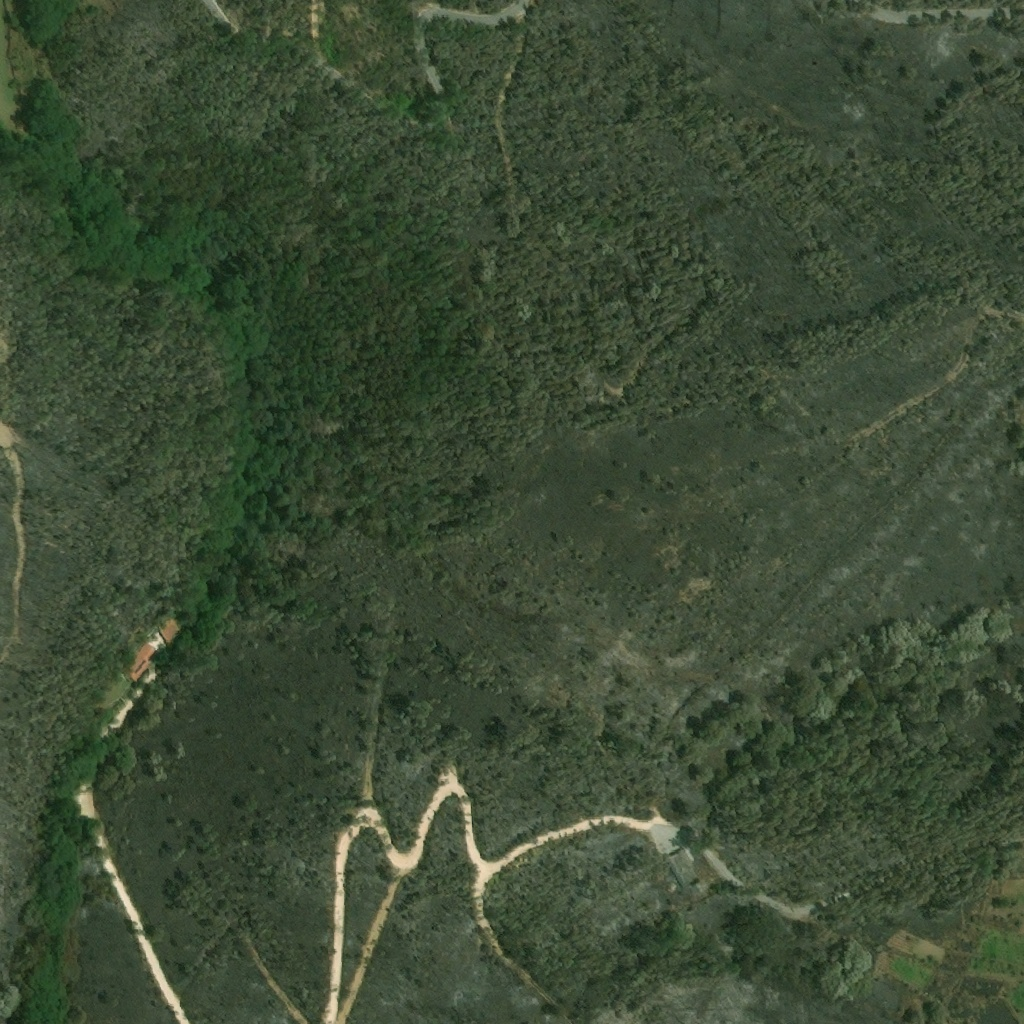0 no-damage: (669, 850, 704, 895), (122, 642, 159, 683), (157, 615, 186, 646)
